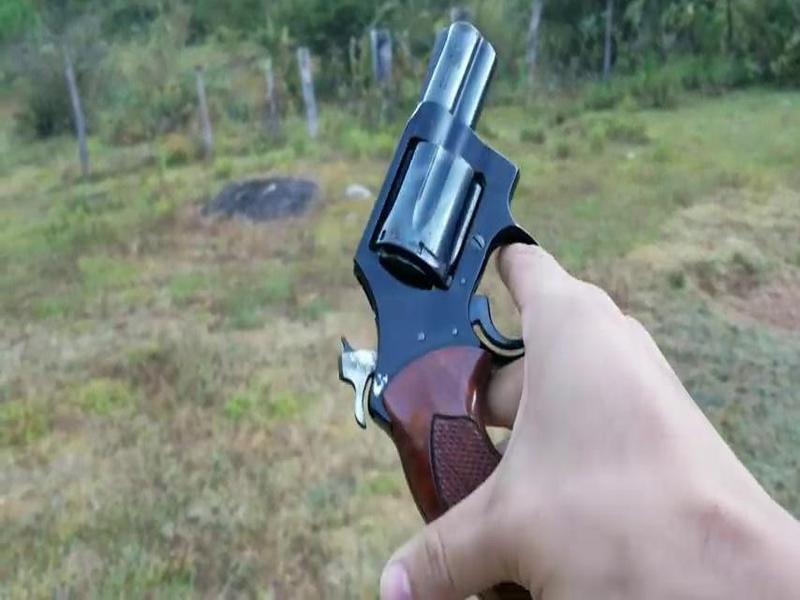Revolver: (335, 9, 582, 531)
